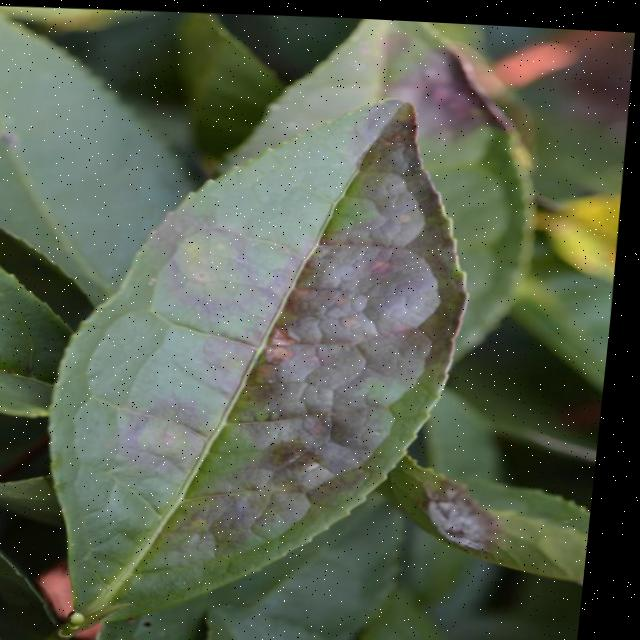Tea exobasidium blight: (130, 107, 471, 521), (393, 47, 516, 138), (415, 473, 517, 557)
